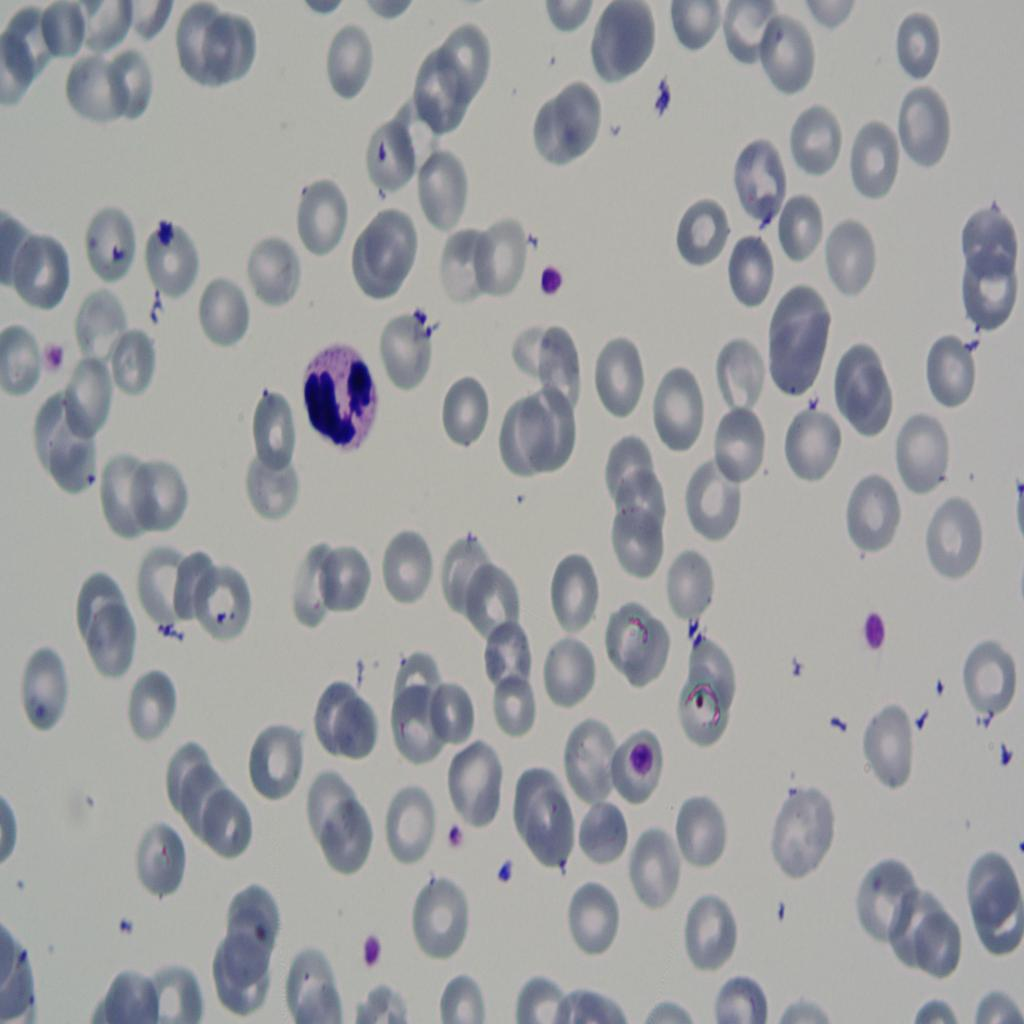Neutrofil: (297, 325, 395, 471)
Platelet: (43, 331, 86, 401), (528, 259, 576, 311), (153, 205, 195, 260), (440, 807, 480, 861), (852, 598, 891, 650), (355, 921, 386, 982), (648, 74, 680, 127), (500, 854, 520, 891)
